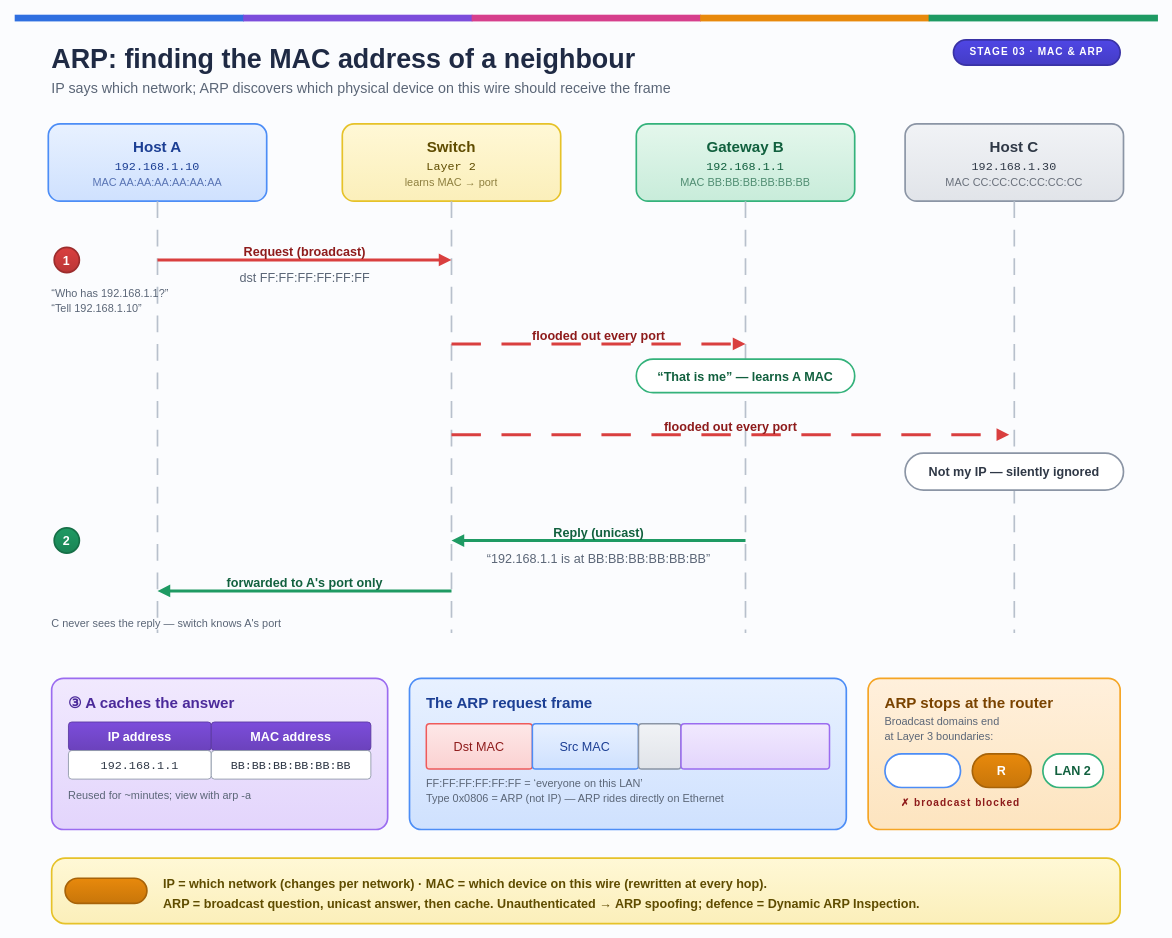
Image size: 1172x938. Some labels were removed from this diagram. The centre of each missing label's shape, as x and y in pixels:
"ARP payload" belongs at point 755,745.
"LAN 1" belongs at point 922,770.
"REMEMBER" belongs at point 105,890.
"Type" belongs at point 659,745.
